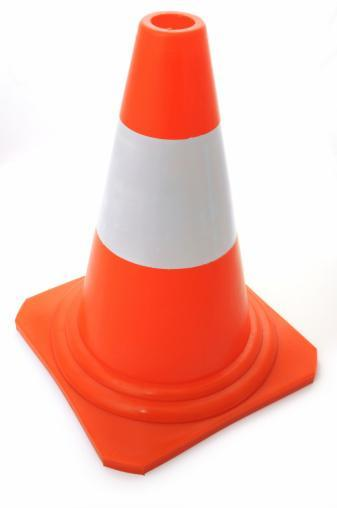Cone: (14, 10, 316, 463)
